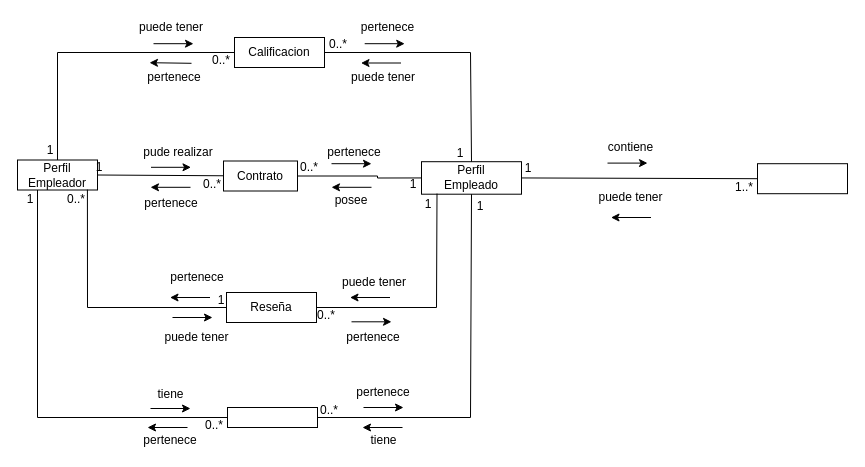
This 865x467 diagram has some shape labels left out. Each missing label, with the centre of its shape:
"Categoría Empleo" goes at [802,178].
"Chat" goes at [272,417].
